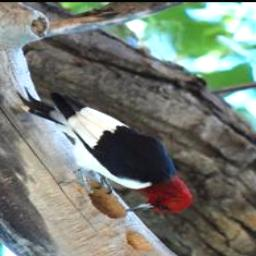Woodpecker: (11, 87, 190, 216)
